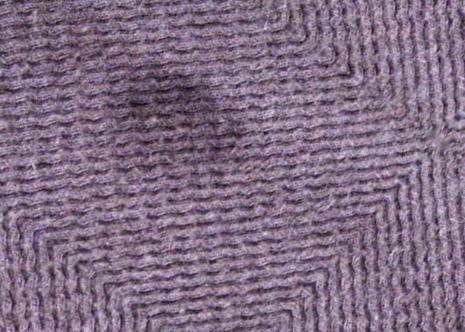stain: (114, 60, 248, 172)
